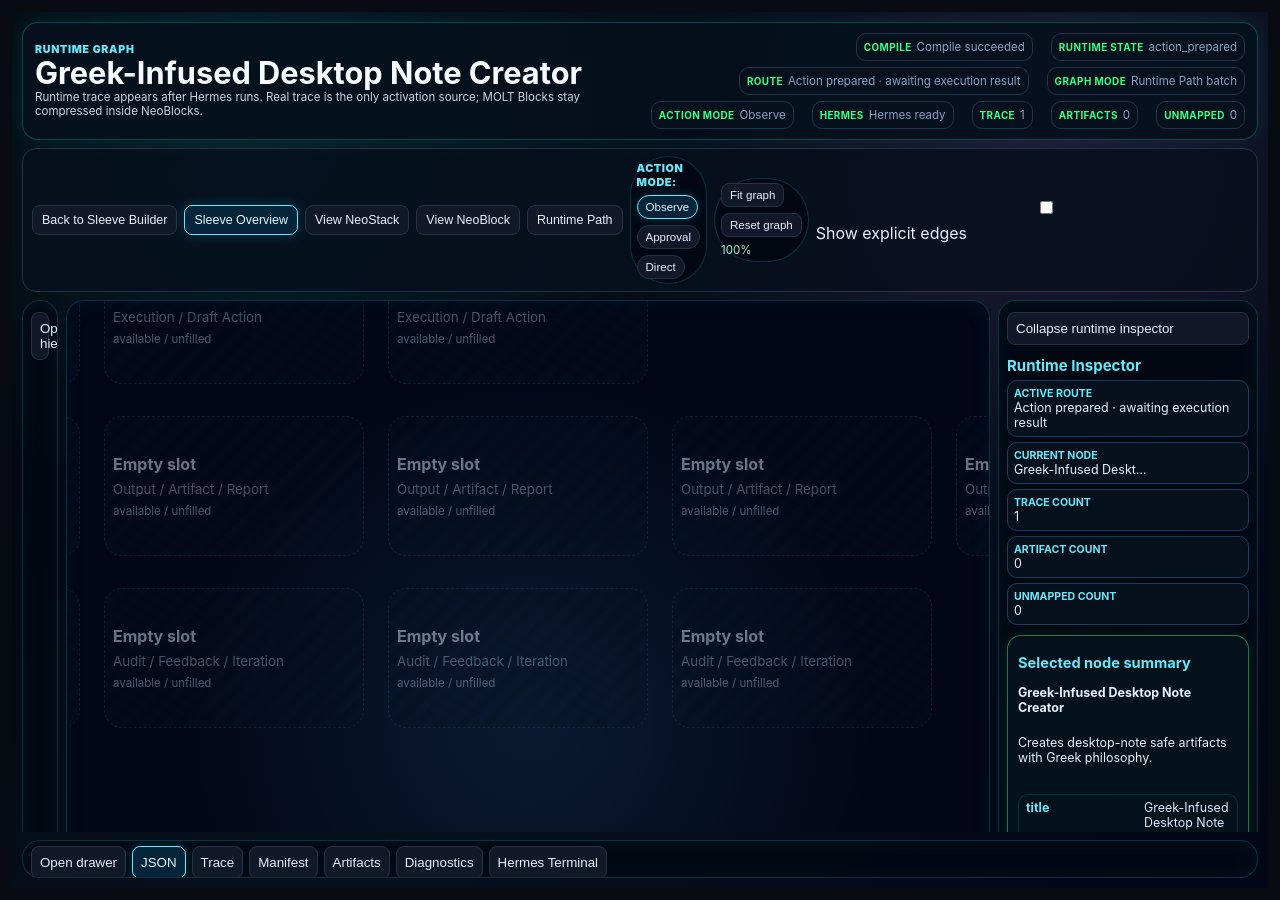
Test: RuntimeGeometryObserver › action_prepared with no natural-language response appends transparent system and Observe explanation messages in the drawer
Click the button "Hermes Terminal" at (548, 862), box [489, 846, 607, 879]
(page scrolled)
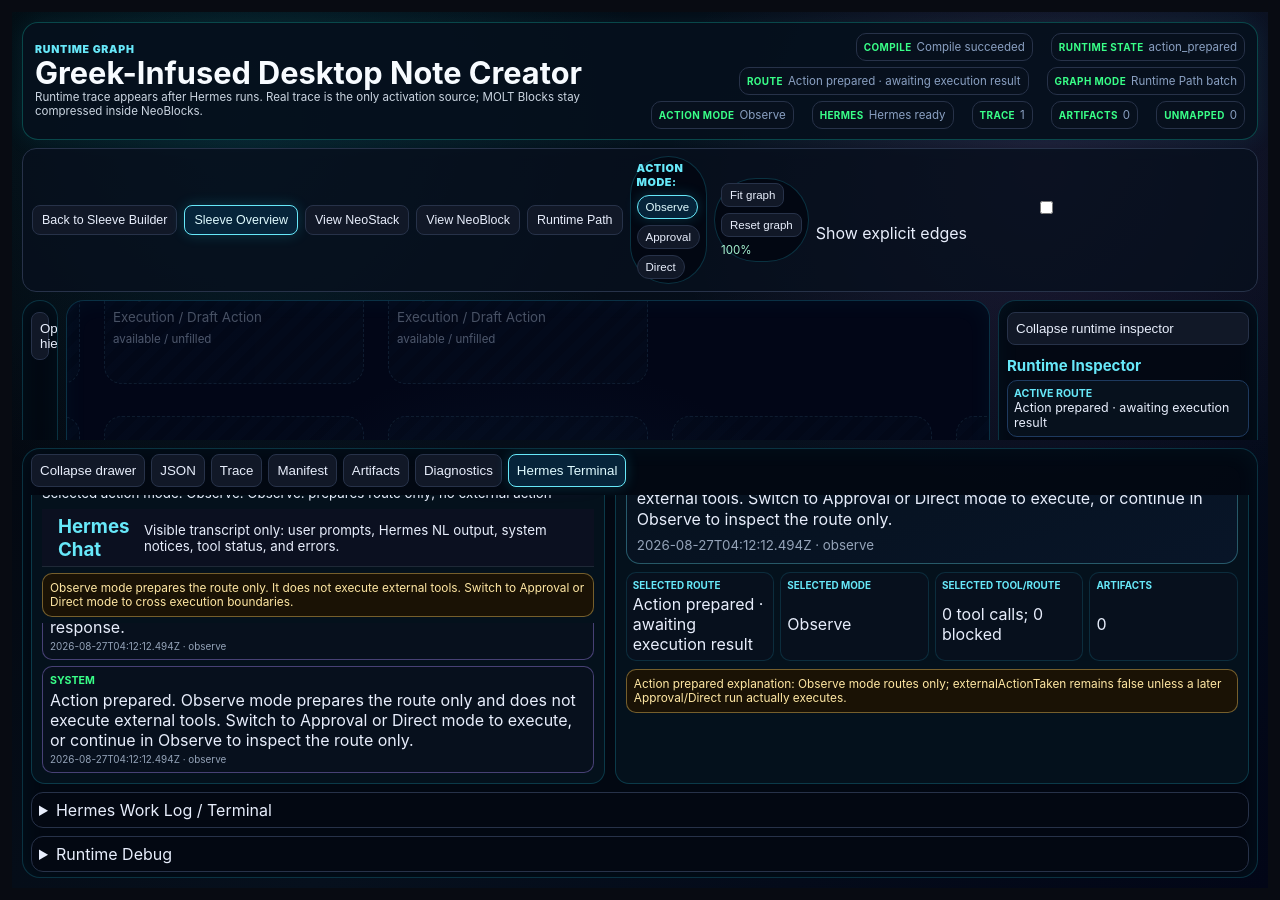
Check: the field labelled "Runtime graph surface" does not show "Observe mode prepares the route only"
Check: the text "Action prepared. Observe mode prepares the route only" below "Hermes Chat" is shown, box [50, 690, 580, 750]
